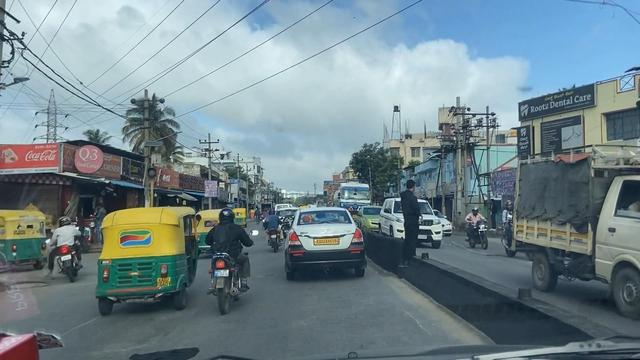LMV: (98, 202, 194, 318), (284, 203, 373, 286), (186, 202, 238, 333)
RoadDamages: (91, 332, 163, 352), (61, 317, 94, 336)
